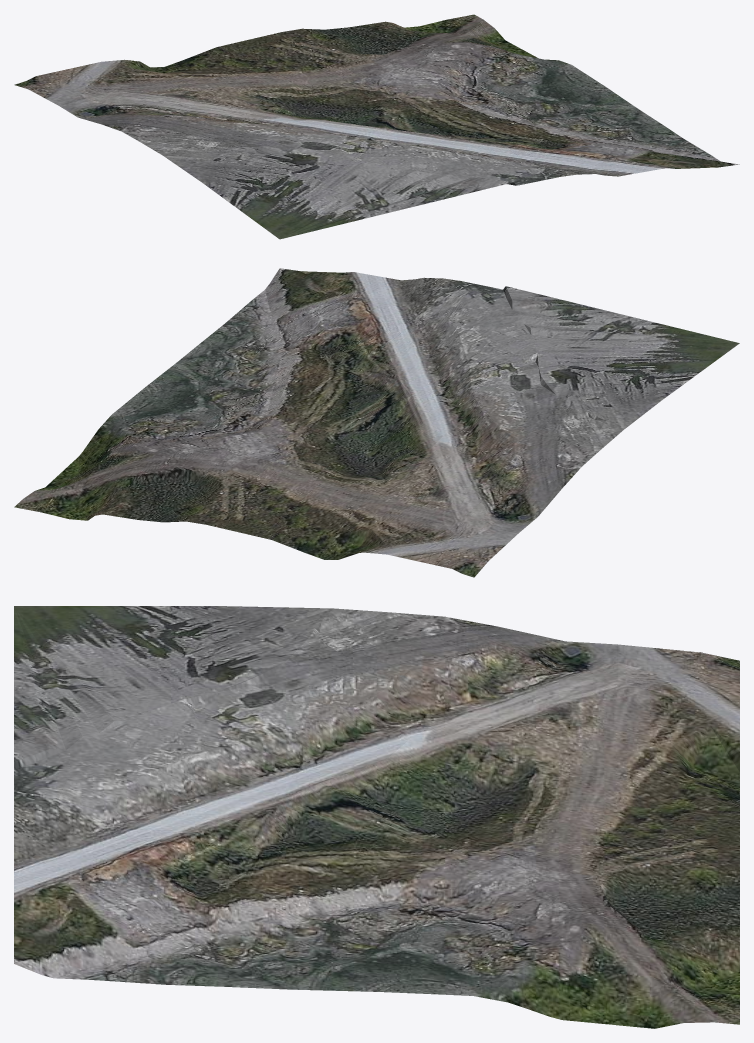
File: map_15_8176_13779.dae
3 renders of one model, top to bottom at view 1: azimuth 30°, elevation 25°; view 2: azimuth 150°, elevation 25°; view 3: azimuth 270°, elevation 25°, orthographic. The views are drawn at different scales.
Visible parts, largest first — view 1: Ter0; view 2: Ter0; view 3: Ter0.
Boxes of the visible parts, x1,y1,x2,y2 form: Ter0: [14, 14, 739, 239]; Ter0: [14, 268, 739, 577]; Ter0: [14, 606, 739, 1028].
Size of the model in its own units: 63.88 by 63.88 by 11.25.
3 materials, 3 textured.
